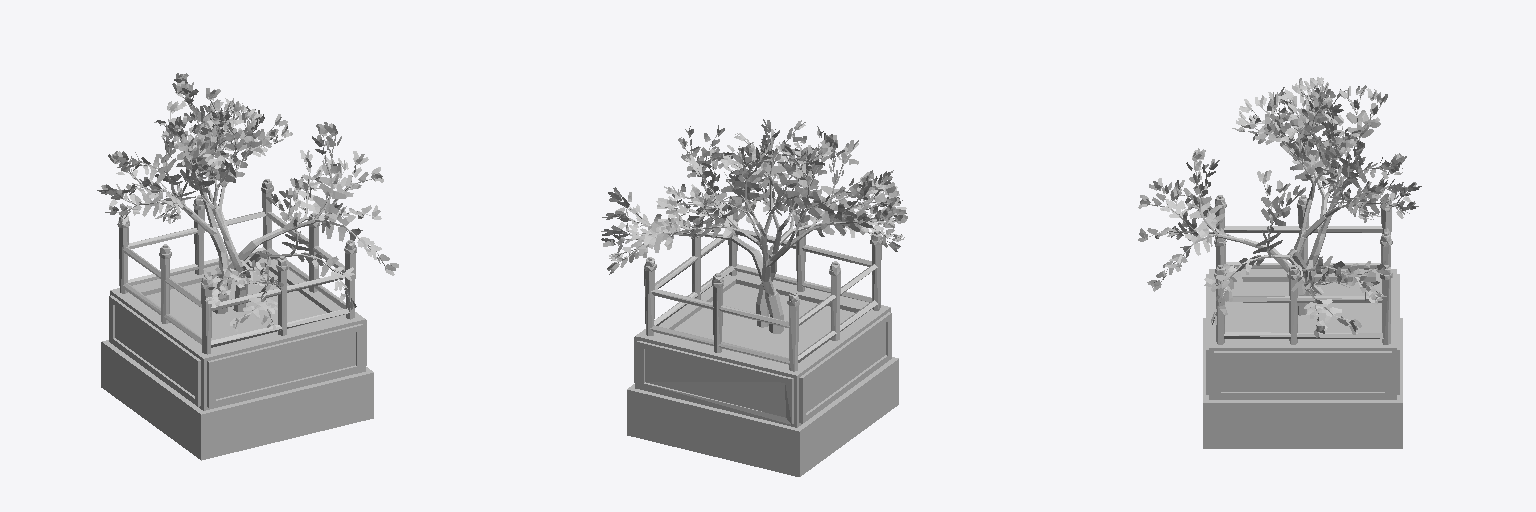
The model's file is decimatedplant0.4.obj.
The picture shows the model from 3 angles: view 1: azimuth 30°, elevation 25°; view 2: azimuth 150°, elevation 25°; view 3: azimuth 270°, elevation 25°; orthographic projection.
Parts seen in each view (by area): view 1: objPlant.005; view 2: objPlant.005; view 3: objPlant.005.
Part boxes in pixels (x1,y1,x2,y2): objPlant.005: (97, 73, 398, 460); objPlant.005: (601, 119, 907, 476); objPlant.005: (1138, 77, 1421, 448).
Bounding box in the file's own units: 0.5649 × 0.5844 × 0.4797.